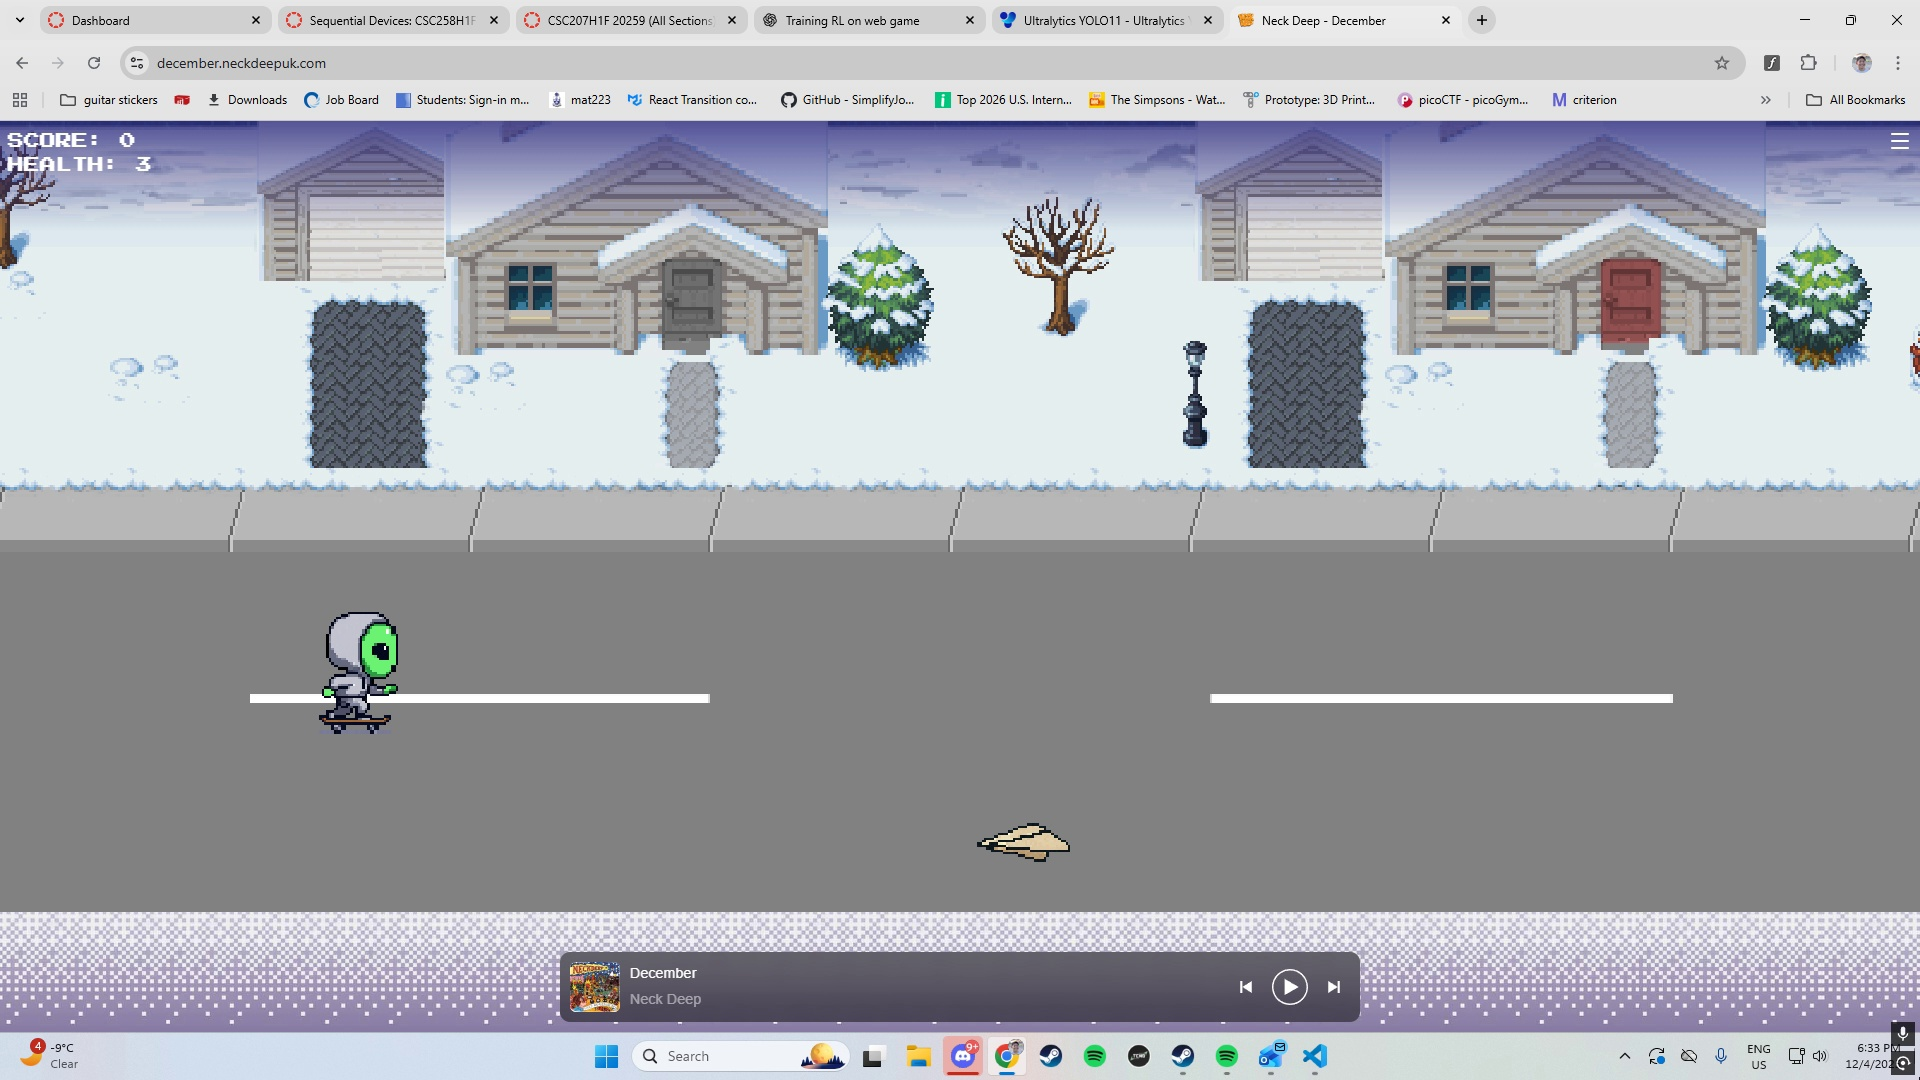Plane: (952, 791, 1097, 882)
Player: (299, 600, 431, 751)
